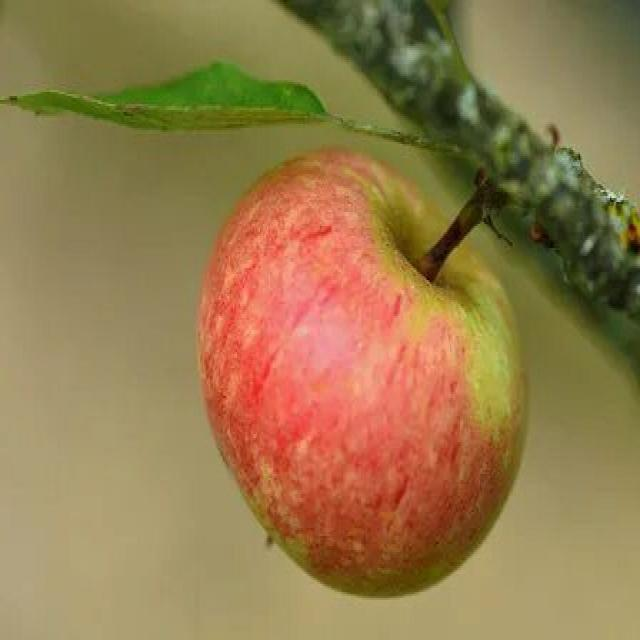Fresh Apple: (206, 148, 512, 582)
